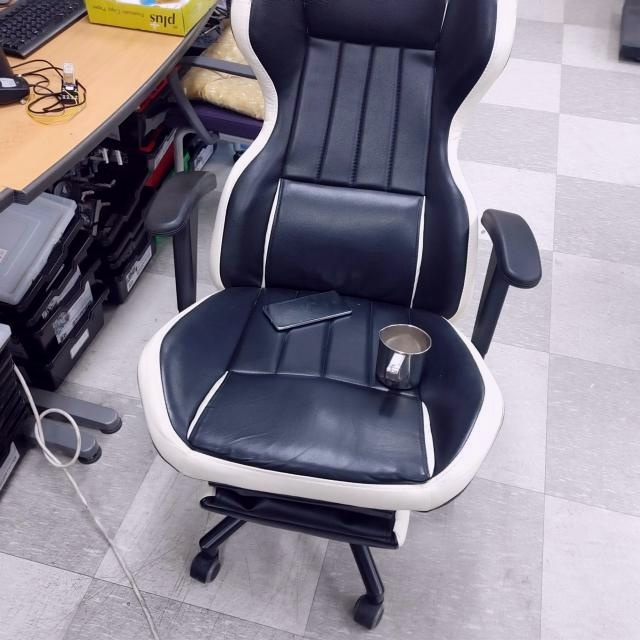cup: (375, 323, 430, 391)
phone: (262, 285, 351, 338)
